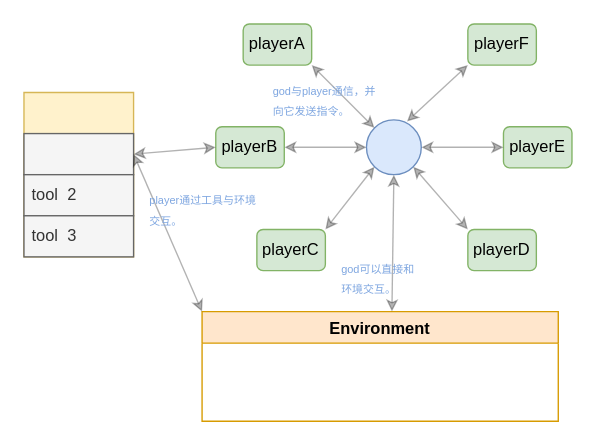
Image size: 596x445. Some labels were removed from this diagram. Each missing label, with the box of its shape:
god: (365, 119, 421, 175)
tool 1: (23, 132, 134, 175)
Tools: (23, 91, 134, 257)
